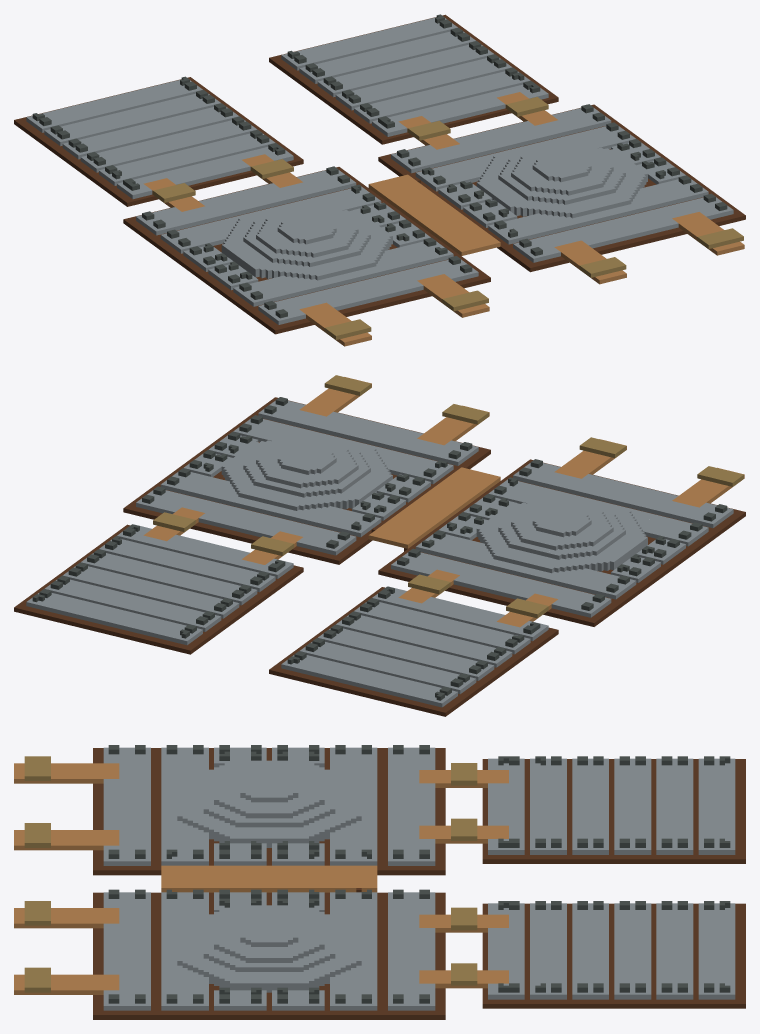
Rendered from mc_mirror_armor.glb.
The picture shows the model from 3 angles, top to bottom: view 1: azimuth 30°, elevation 25°; view 2: azimuth 150°, elevation 25°; view 3: azimuth 270°, elevation 25°; orthographic projection. The views are drawn at different scales.
Parts seen in each view (by area): view 1: mc_mirror_armor:compound; view 2: mc_mirror_armor:compound; view 3: mc_mirror_armor:compound.
Part boxes in pixels (bbox=[...]): mc_mirror_armor:compound: bbox=[14, 14, 745, 346]; mc_mirror_armor:compound: bbox=[14, 375, 745, 716]; mc_mirror_armor:compound: bbox=[14, 745, 745, 1019].
Size of the model in its own units: 0.48 by 0.024 by 0.556.
